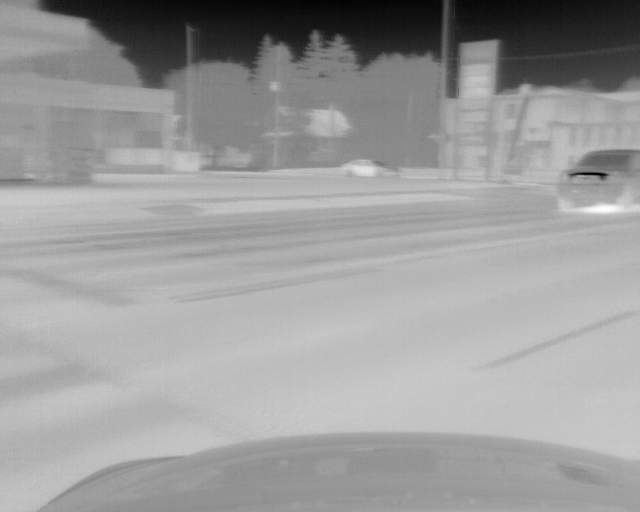car: (555, 148, 640, 213), (339, 155, 402, 179)
